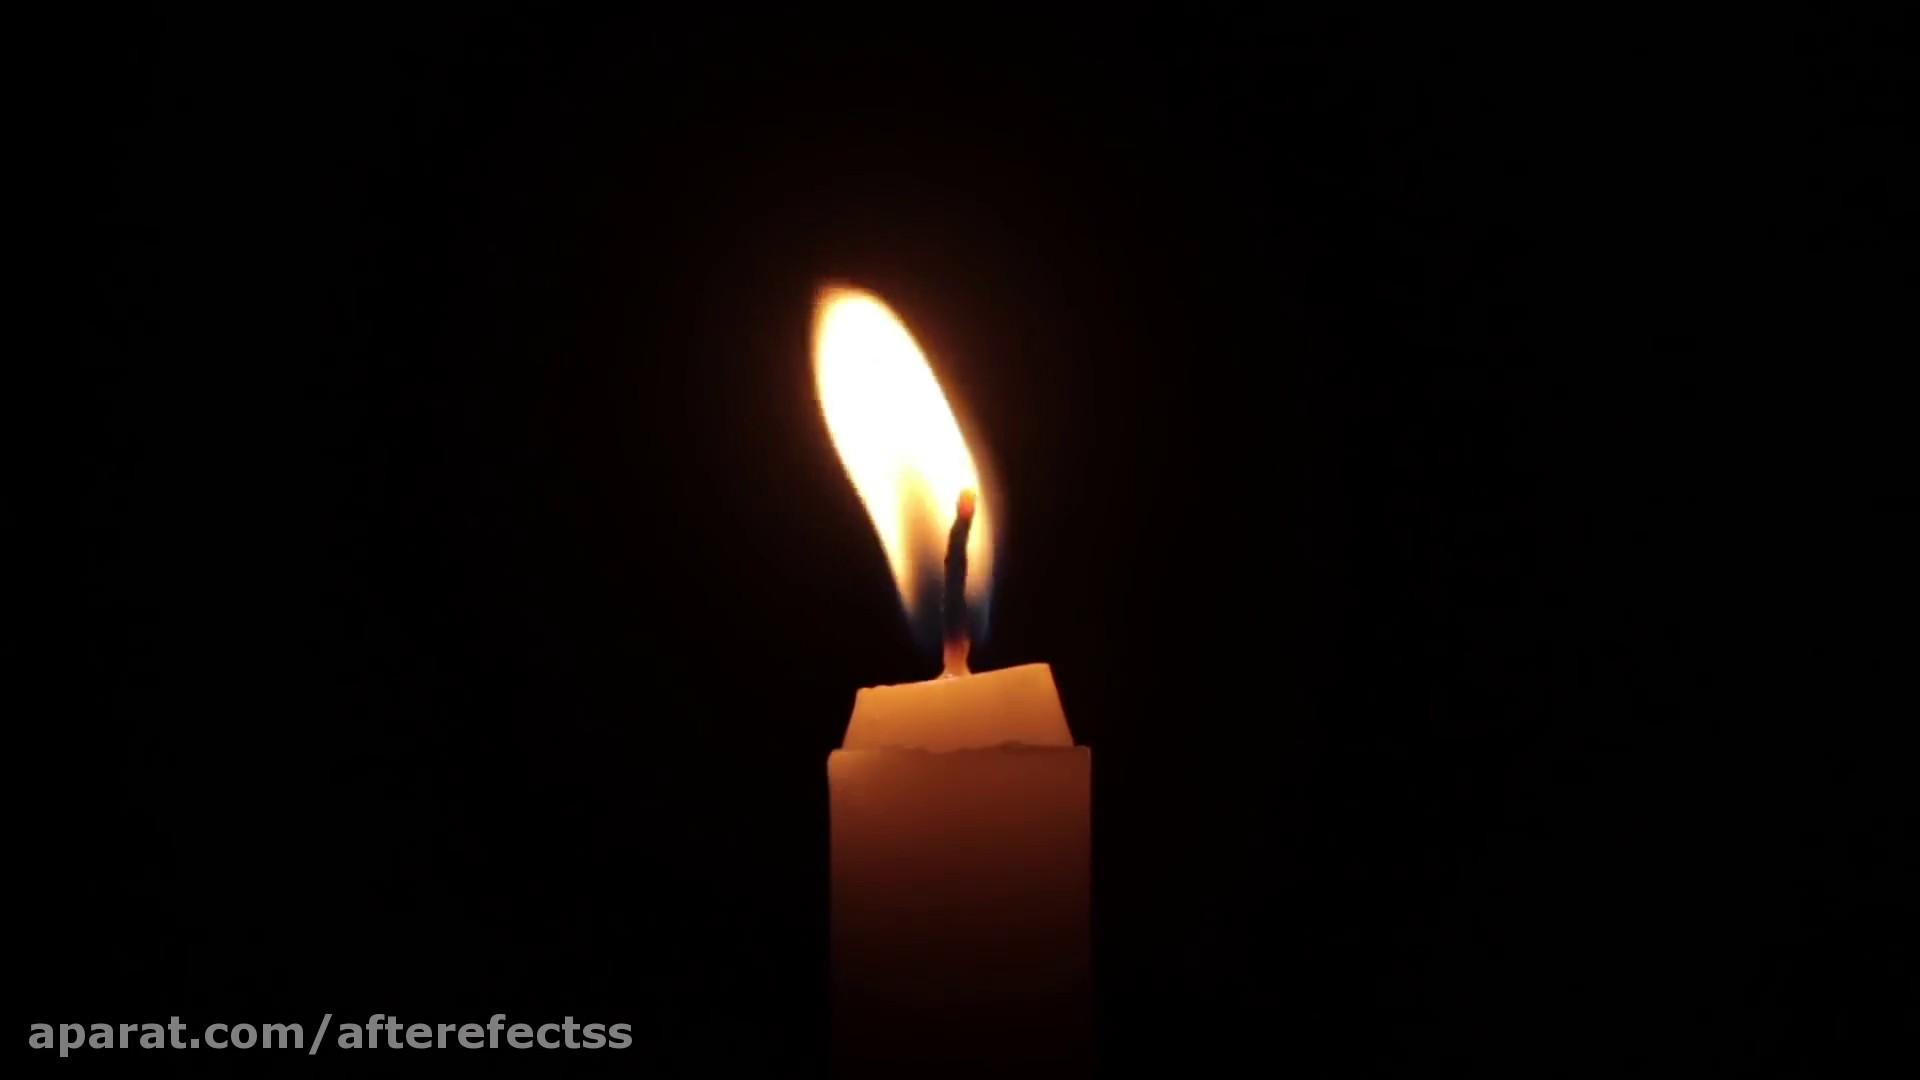fire: (794, 273, 1021, 671)
